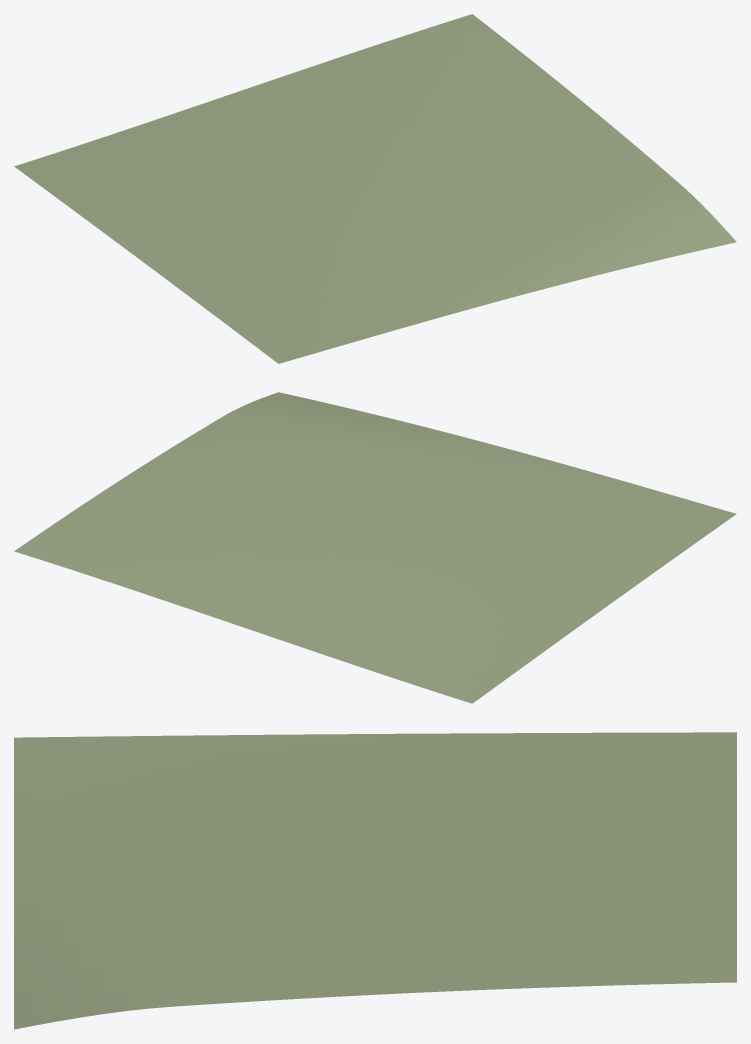
Rendered from valley-5-6.glb.
3 views of the same model, one above another, from view 1: azimuth 30°, elevation 25°; view 2: azimuth 150°, elevation 25°; view 3: azimuth 270°, elevation 25° (orthographic). The views are drawn at different scales.
Visible parts, largest first — view 1: valley-5-6; view 2: valley-5-6; view 3: valley-5-6.
Part boxes in pixels (x1,y1,x2,y2): valley-5-6: [14, 14, 736, 363]; valley-5-6: [14, 392, 736, 703]; valley-5-6: [14, 732, 736, 1029].
Bounding box in the file's own units: 256 × 23.7 × 256.
